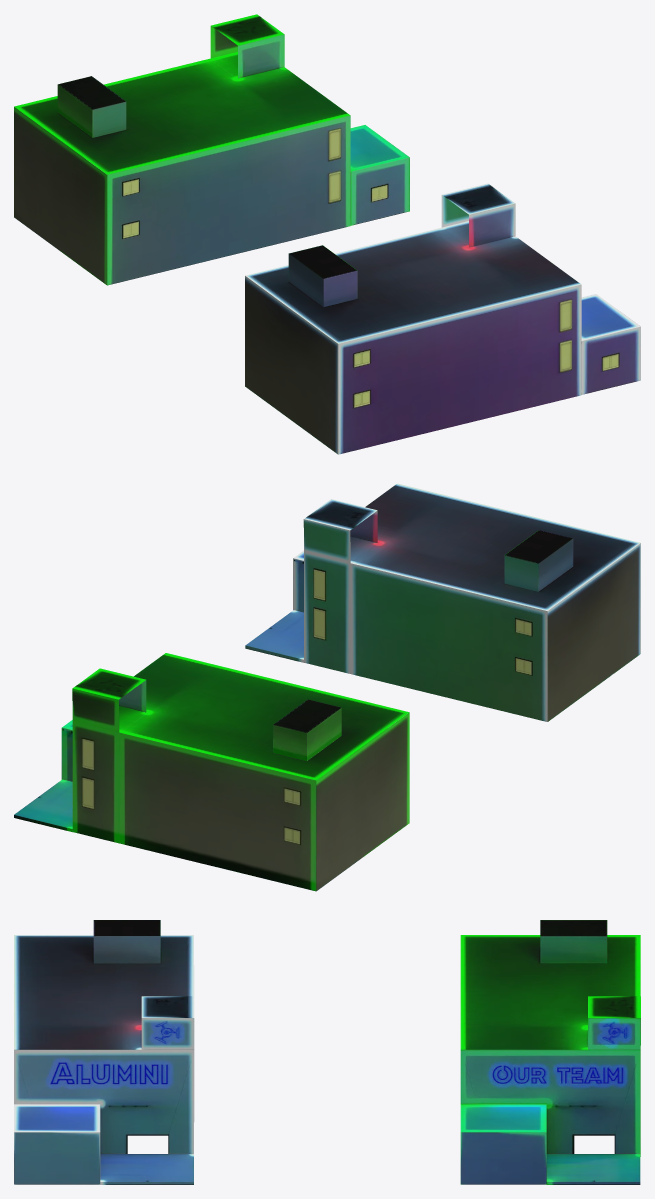
Rendered from Hostel23-transformed.glb.
3 views of the same model, one above another, from view 1: azimuth 30°, elevation 25°; view 2: azimuth 150°, elevation 25°; view 3: azimuth 270°, elevation 25° (orthographic). The views are drawn at different scales.
Parts seen in each view (by area): view 1: Cube.384; view 2: Cube.384; view 3: Cube.384.
Boxes of the visible parts, bbox=[...] form: Cube.384: bbox=[14, 14, 640, 454]; Cube.384: bbox=[14, 483, 640, 891]; Cube.384: bbox=[14, 920, 640, 1184].
Size of the model in its own units: 583 by 265 by 1082.
Materials: 1 (1 with a texture image).
